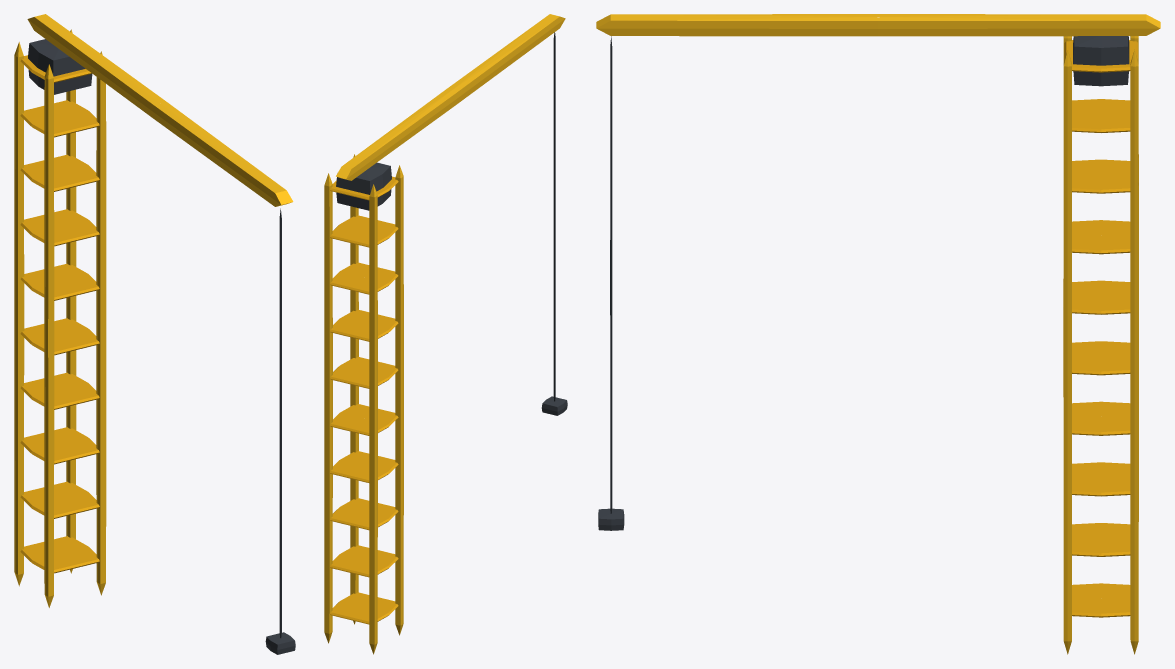
File: s-crane.glb
The picture shows the model from 3 angles, left to right: view 1: azimuth 30°, elevation 25°; view 2: azimuth 150°, elevation 25°; view 3: azimuth 270°, elevation 25°; orthographic projection. The views are drawn at different scales.
Visible parts, largest first — view 1: p; view 2: p; view 3: p.
Part boxes in pixels (box(x1,y1,x2,y2)): p: box(14, 14, 295, 654); p: box(324, 14, 567, 654); p: box(596, 14, 1160, 654).
Bounding box in the file's own units: 3.4 × 30.9 × 25.34.
